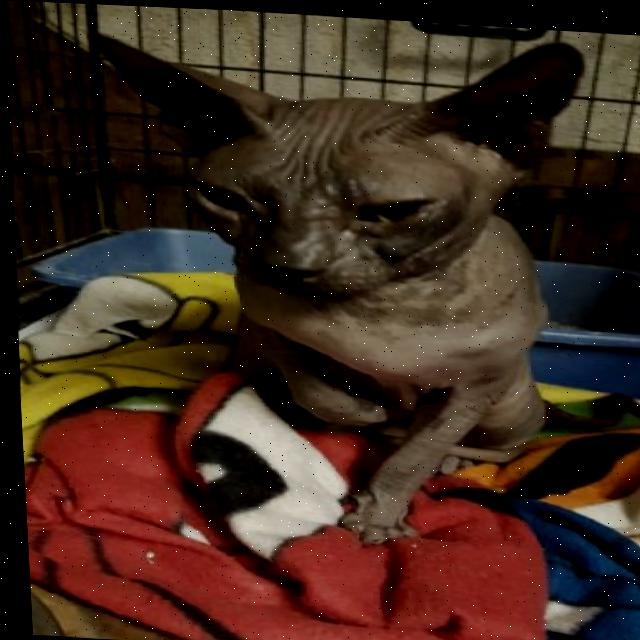Sphynx: (71, 6, 611, 559)
